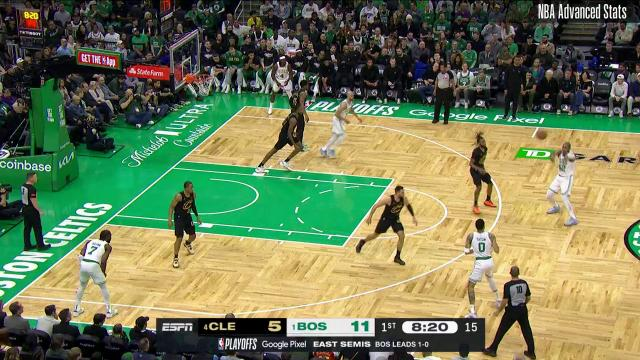3_dx: (228, 111, 242, 119)
3_sx: (12, 292, 26, 300)
b_dx: (242, 102, 252, 110)
free_adx: (388, 173, 400, 183)
free_asx: (337, 241, 349, 252)
free_bdx: (176, 155, 188, 165)
free_bsx: (100, 219, 110, 229)
mid_dx: (532, 122, 544, 132)
referee: (492, 265, 538, 359), (20, 170, 52, 254), (431, 63, 457, 123)
team: (464, 218, 504, 318), (76, 229, 116, 316), (320, 92, 360, 156), (547, 141, 577, 226), (270, 55, 294, 113)
team1: (358, 186, 418, 266), (258, 106, 302, 174), (170, 180, 202, 268), (467, 134, 497, 214), (288, 80, 312, 153)
timer: (410, 320, 450, 332)
